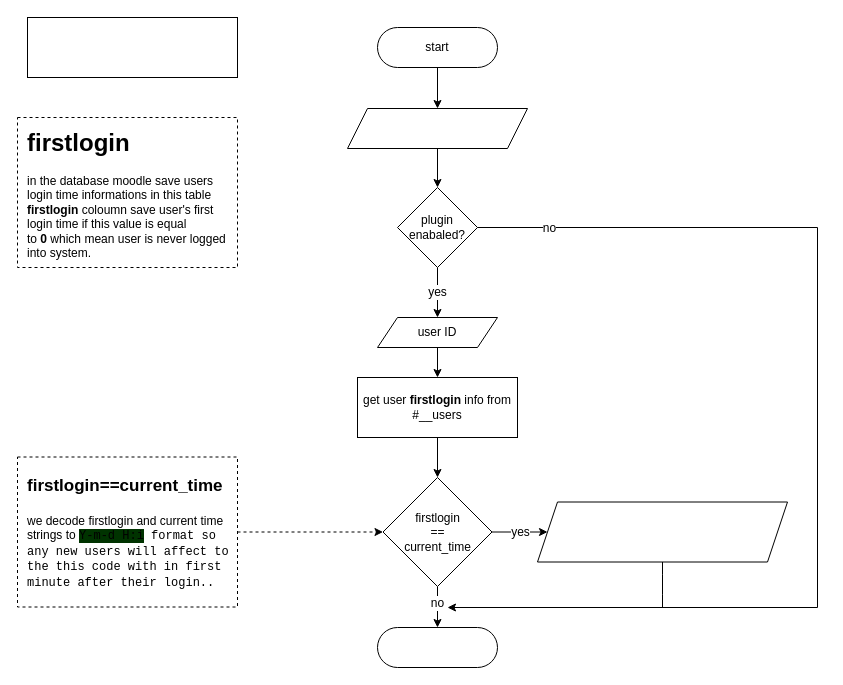
This 843x685 diagram has some shape labels left out. Here are the shapes that lost their labels. From the top down, the box of each, then its label:
(26, 16, 238, 78): New User create account (new user data insert in tot database)
(346, 108, 528, 148): get plugin information
(536, 501, 788, 562): display notice or redirect user to select course
(376, 626, 498, 668): stop
